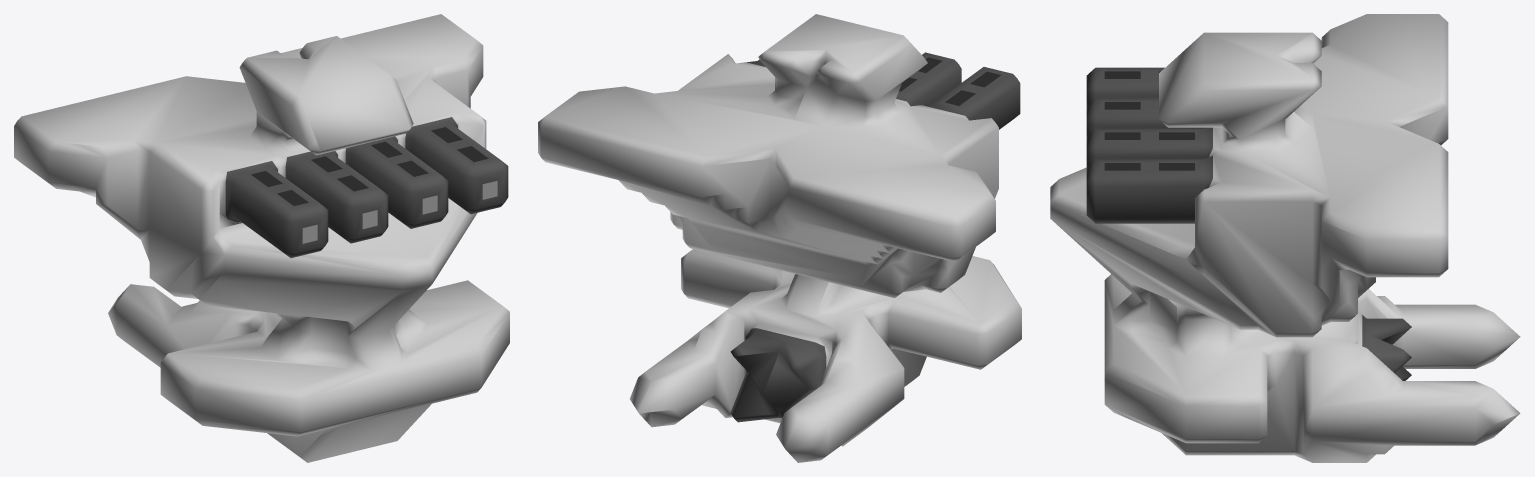
The model's file is fulkreykk-1-lodovik-class.obj.
3 views of the same model, side by side, from view 1: azimuth 30°, elevation 25°; view 2: azimuth 150°, elevation 25°; view 3: azimuth 270°, elevation 25° (orthographic). The views are drawn at different scales.
Size of the model in its own units: 29 by 23 by 26.
1 material, 1 textured.
